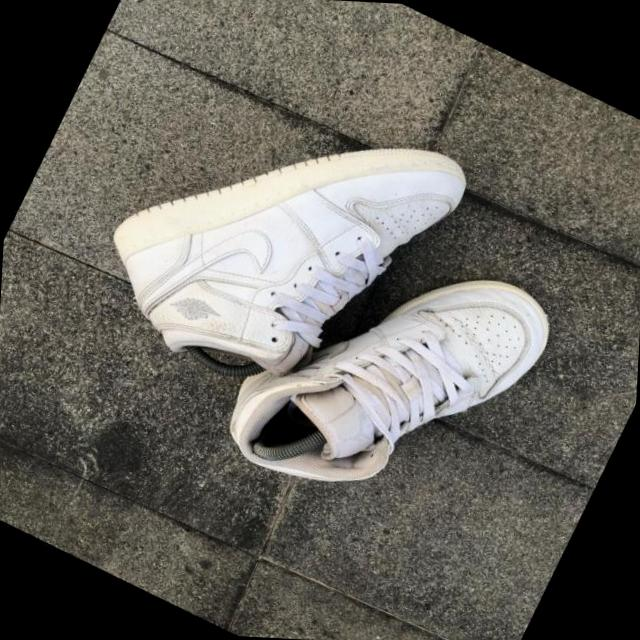nike_fake_jordan: (69, 25, 486, 442), (206, 191, 568, 564)
